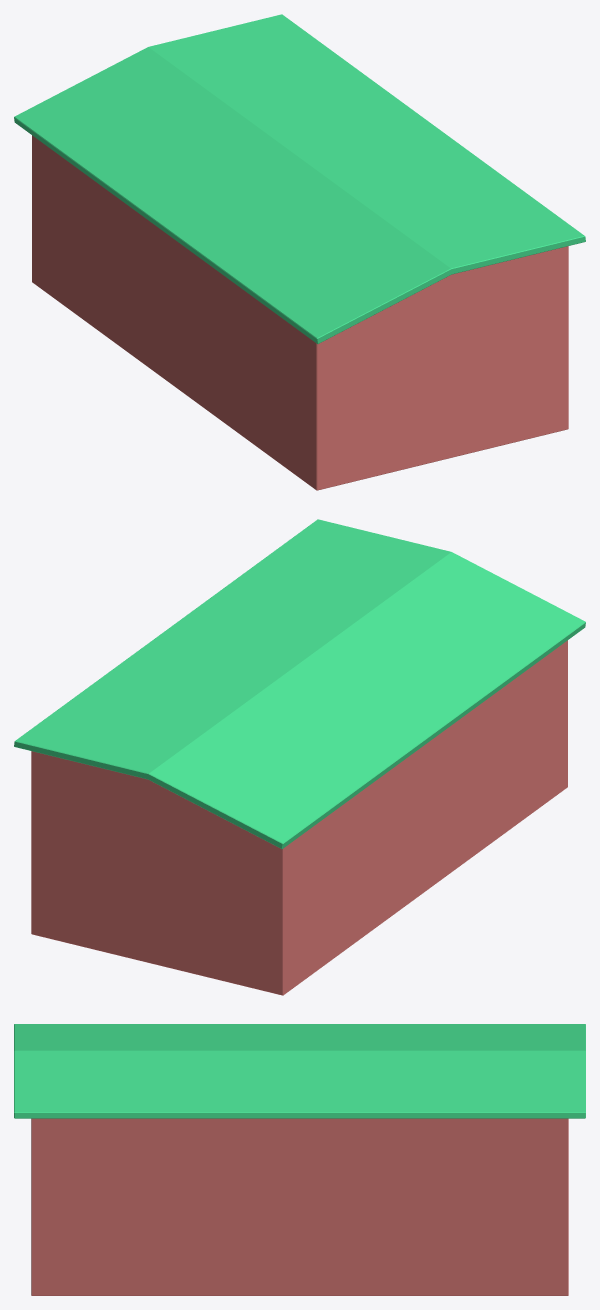
Rendered from BuildingBlock_3_2.fbx.
The picture shows the model from 3 angles, top to bottom: view 1: azimuth 30°, elevation 25°; view 2: azimuth 150°, elevation 25°; view 3: azimuth 270°, elevation 25°; orthographic projection. The views are drawn at different scales.
Parts seen in each view (by area): view 1: BuildingBlock_3_2; view 2: BuildingBlock_3_2; view 3: BuildingBlock_3_2.
Boxes of the visible parts, <box> form: BuildingBlock_3_2: <box>14,14,585,490</box>; BuildingBlock_3_2: <box>14,519,585,995</box>; BuildingBlock_3_2: <box>14,1024,585,1295</box>.
Size of the model in its own units: 503 by 354 by 980.
